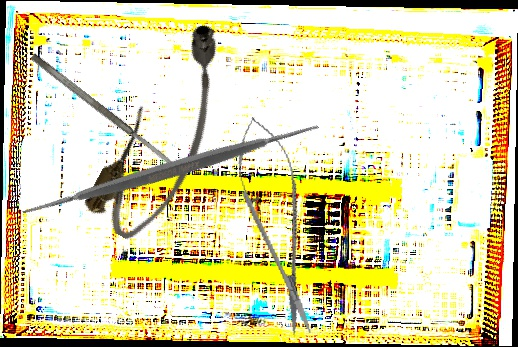Cannula: (78, 15, 256, 250)
Micro Scissor: (225, 111, 330, 341)
Spatula Surgical: (7, 5, 333, 333), (29, 51, 180, 173)
